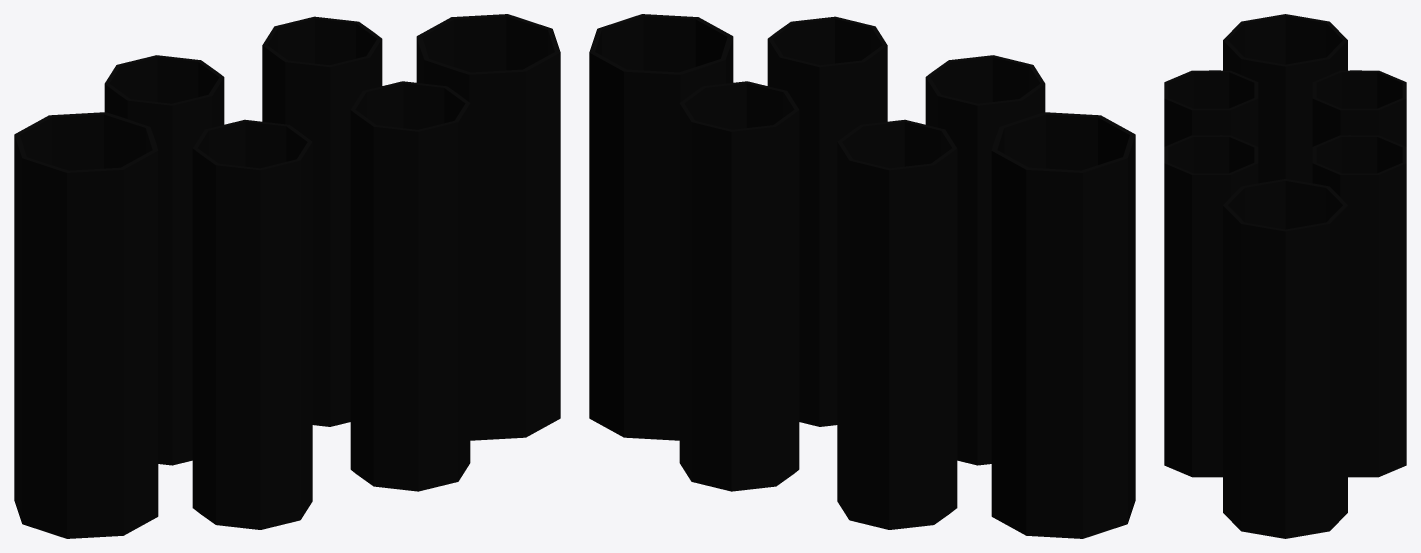
Rendered from GrinderTubes.fbx.
The picture shows the model from 3 angles, left to right: view 1: azimuth 30°, elevation 25°; view 2: azimuth 150°, elevation 25°; view 3: azimuth 270°, elevation 25°; orthographic projection. The views are drawn at different scales.
Visible parts, largest first — view 1: Cube.046, Cube.044; view 2: Cube.046, Cube.044; view 3: Cube.046, Cube.044.
Boxes of the visible parts, x1,y1,x2,y2 form: Cube.046: [104, 16, 470, 529]; Cube.044: [14, 14, 560, 538]; Cube.046: [679, 16, 1045, 529]; Cube.044: [589, 14, 1135, 538]; Cube.046: [1164, 70, 1406, 477]; Cube.044: [1223, 14, 1347, 538].
Bounding box in the file's own units: 16329 × 10762 × 7680.
